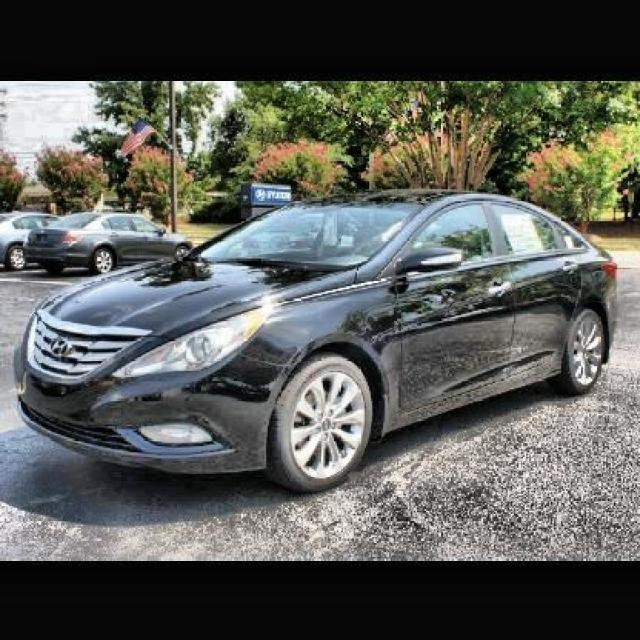black: (29, 192, 640, 450)
